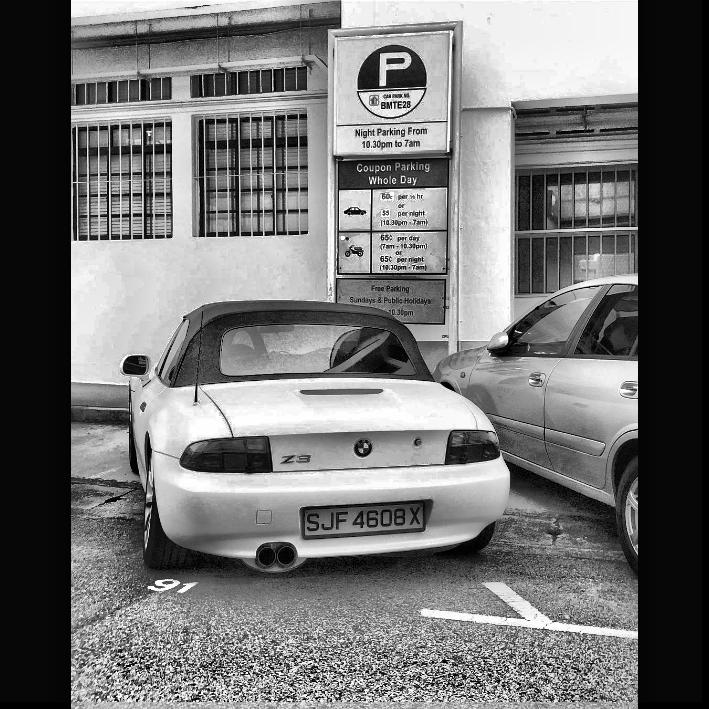License-Plates: (305, 504, 422, 535)
